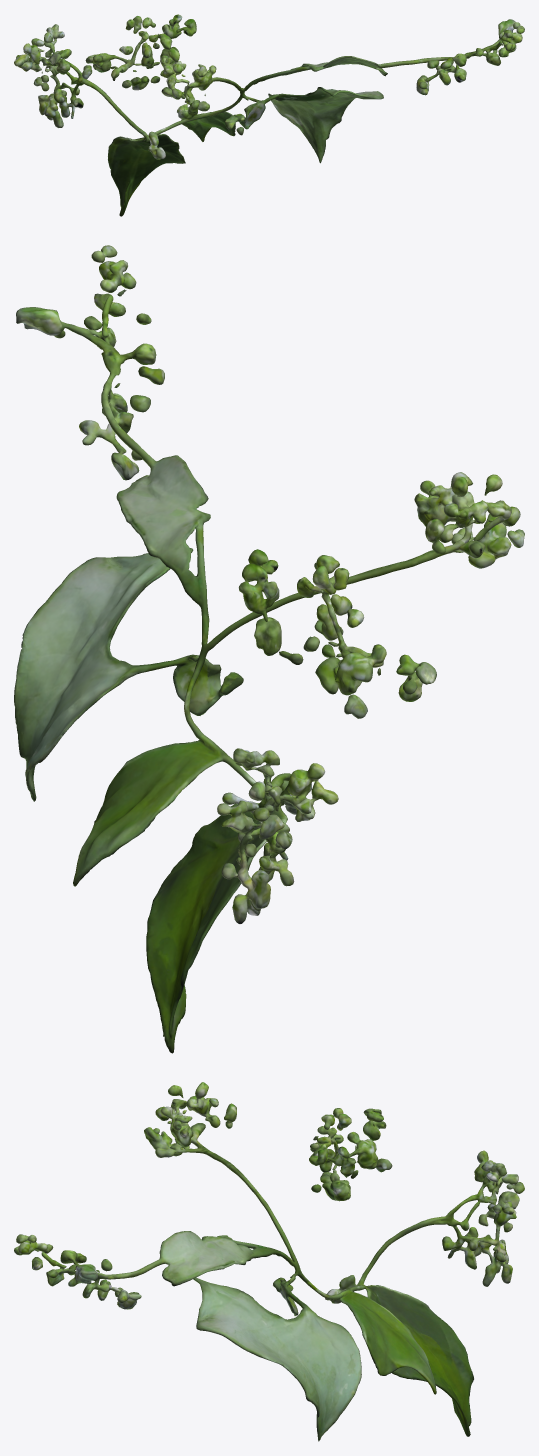
The model's file is herb0080_dup.gltf.
3 renders of one model, top to bottom at view 1: azimuth 30°, elevation 25°; view 2: azimuth 150°, elevation 25°; view 3: azimuth 270°, elevation 25°, orthographic. The views are drawn at different scales.
Parts seen in each view (by area): view 1: Mesh_0.025; view 2: Mesh_0.025; view 3: Mesh_0.025.
Part boxes in pixels (x1,y1,x2,y2): Mesh_0.025: (14,14,524,216); Mesh_0.025: (14,245,524,1053); Mesh_0.025: (14,1082,524,1441).
Size of the model in its own units: 1.93 by 1.43 by 1.99.
1 material, 1 textured.
